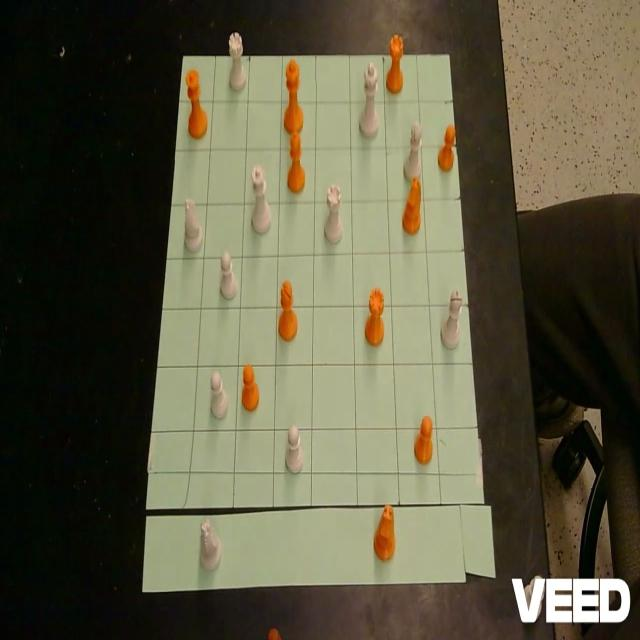orange_bishop: (278, 279, 298, 340), (287, 130, 305, 193)
orange_king: (284, 58, 304, 134)
orange_knight: (374, 503, 396, 561), (402, 175, 421, 236), (267, 628, 282, 640)
orange_pawn: (414, 415, 433, 464), (438, 122, 456, 171), (242, 364, 259, 412)
orange_queen: (185, 68, 208, 138)
orange_rook: (365, 286, 385, 346), (386, 31, 404, 92)
white_bishop: (440, 288, 462, 350), (404, 120, 422, 182)
white_king: (359, 61, 379, 137)
white_knight: (200, 518, 222, 570), (184, 198, 204, 253)
white_pawn: (220, 250, 238, 300), (210, 369, 228, 419), (286, 425, 303, 474)
white_queen: (250, 163, 272, 234)
white_rook: (324, 182, 344, 244), (228, 32, 247, 92)
